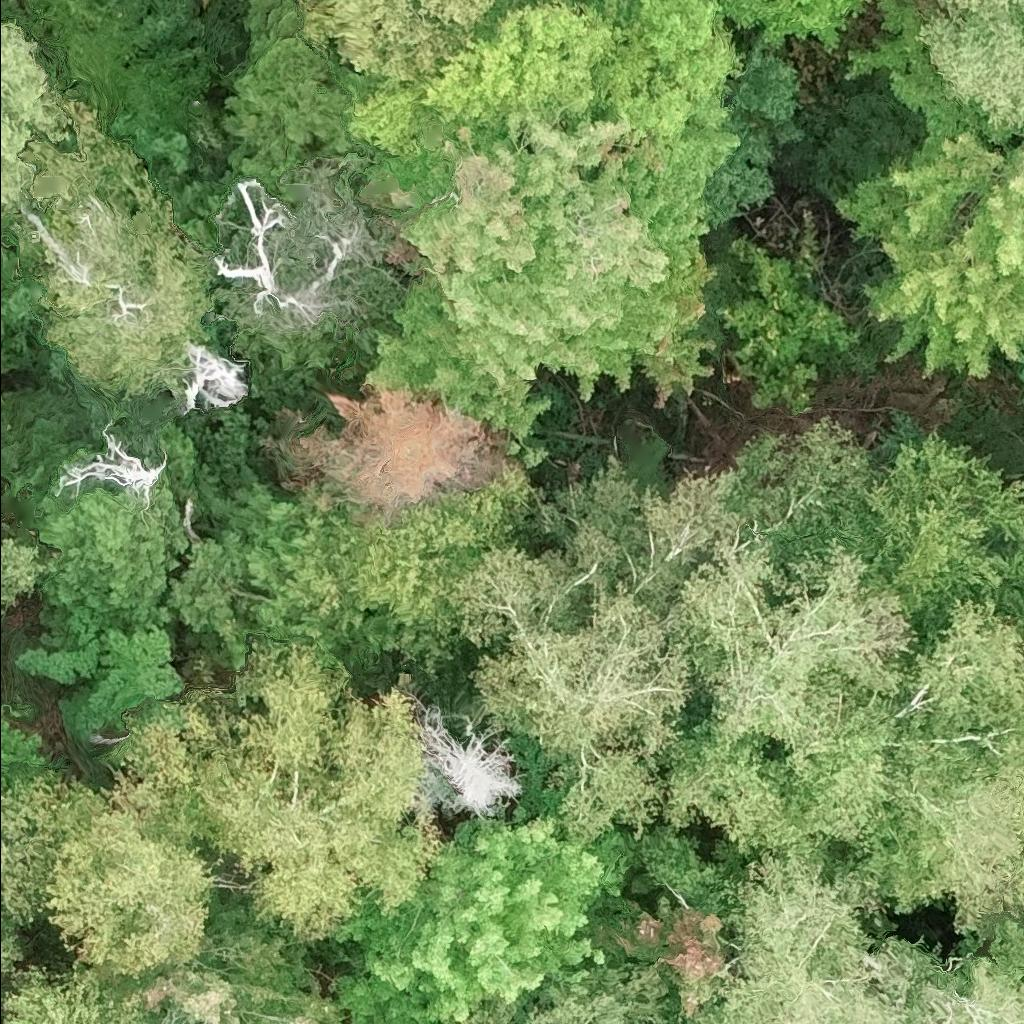crown: (95, 637, 425, 950), (386, 109, 720, 410), (447, 439, 693, 844), (656, 518, 921, 859), (340, 0, 750, 190), (312, 801, 635, 1023), (839, 592, 1023, 954), (688, 842, 1023, 1023), (20, 140, 220, 400), (832, 118, 1023, 380), (360, 277, 555, 471), (865, 440, 1023, 649), (38, 809, 225, 984), (290, 381, 513, 527), (112, 893, 345, 1023), (589, 892, 736, 1023), (621, 467, 752, 613), (294, 0, 517, 82), (0, 772, 114, 928), (917, 0, 1023, 139), (615, 813, 747, 914), (413, 702, 526, 819), (467, 960, 670, 1023), (0, 963, 159, 1023), (0, 536, 48, 616), (0, 902, 27, 989), (923, 0, 957, 9), (1017, 361, 1023, 402), (994, 0, 1023, 8), (444, 1016, 463, 1023)
